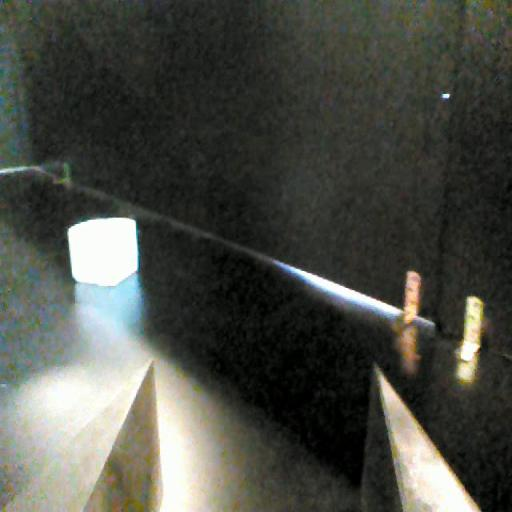cube: (66, 215, 140, 287)
